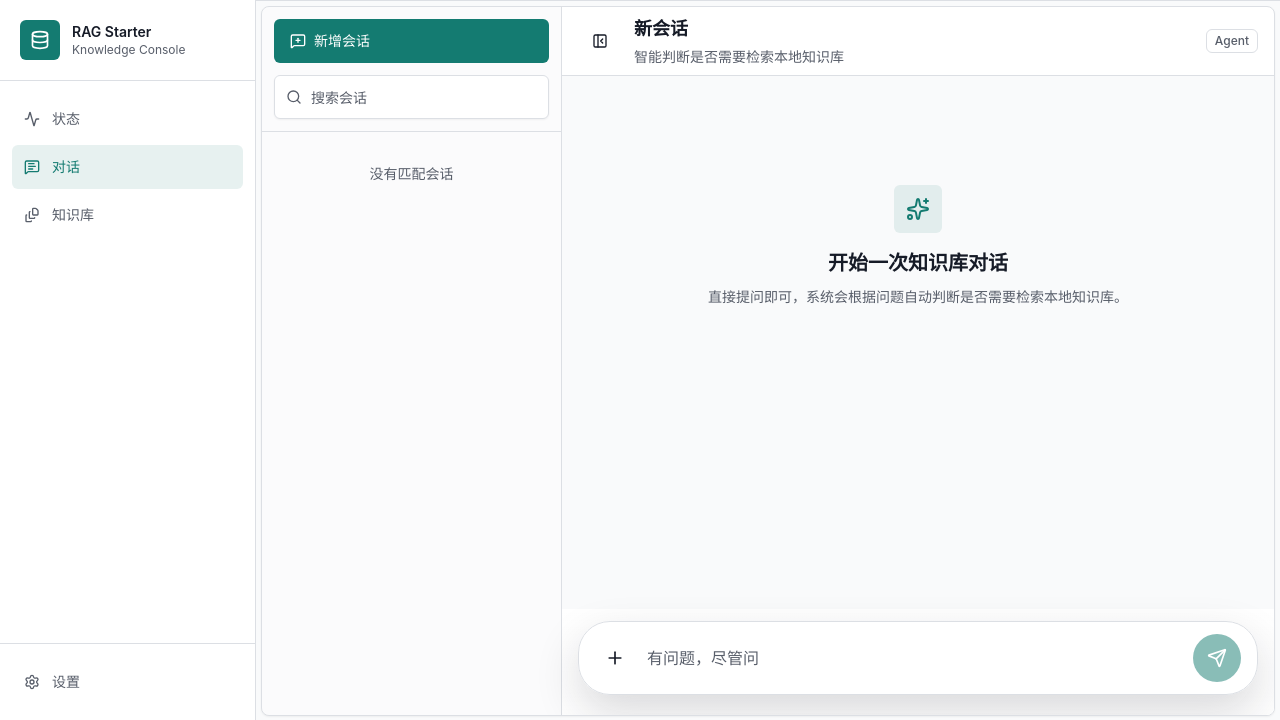
Test case: App › keeps ordered markdown list numbering across item descriptions
In the text box named "输入消息": (914, 658) [647, 638, 1181, 678], type "有序列表"
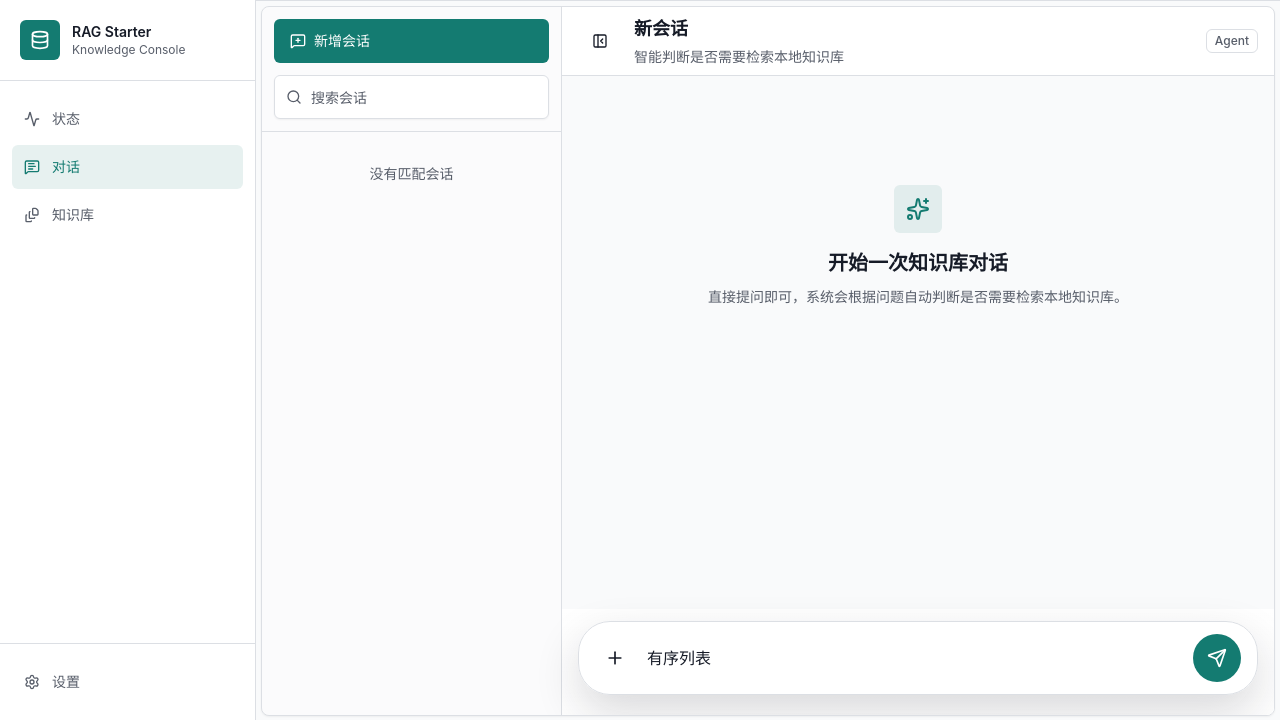
Click the button named "发送消息": click(1217, 658) [1193, 634, 1241, 682]
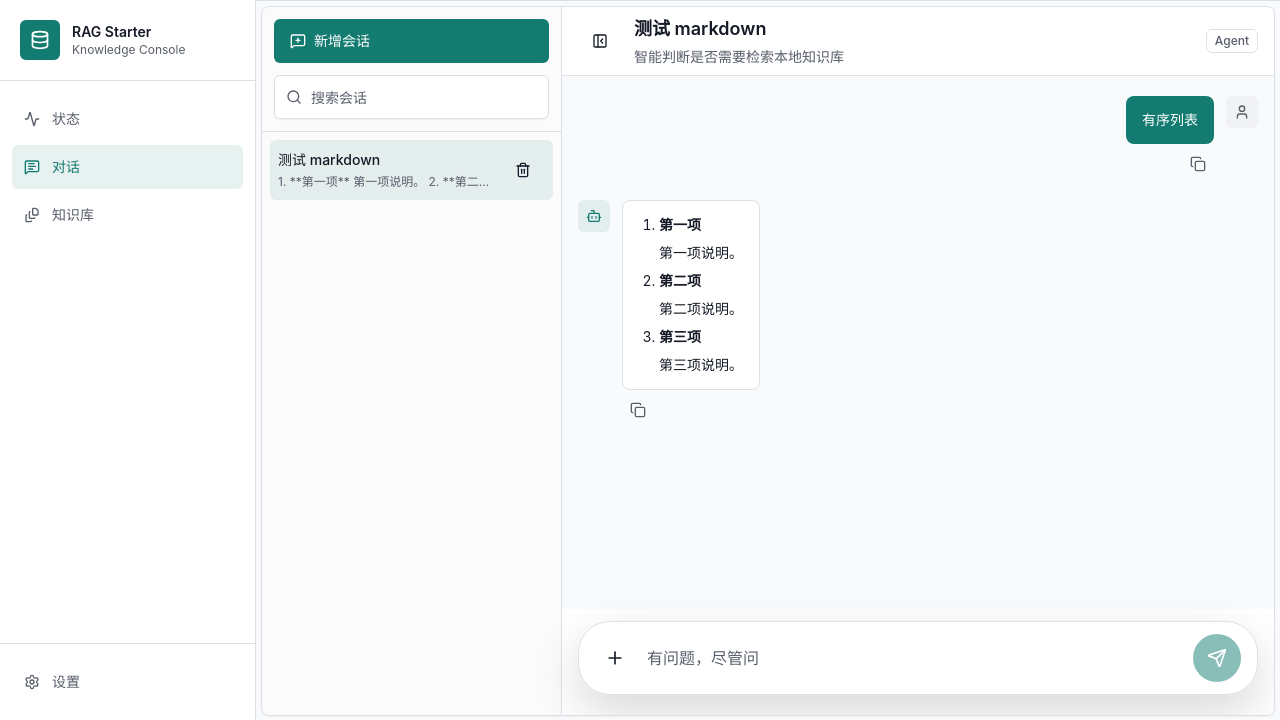
Expected: the text "第一项" is shown, [659, 216, 701, 233]
Expected: the text "第二项" is shown, [659, 272, 701, 289]
Expected: the text "第三项" is shown, [659, 328, 701, 345]
